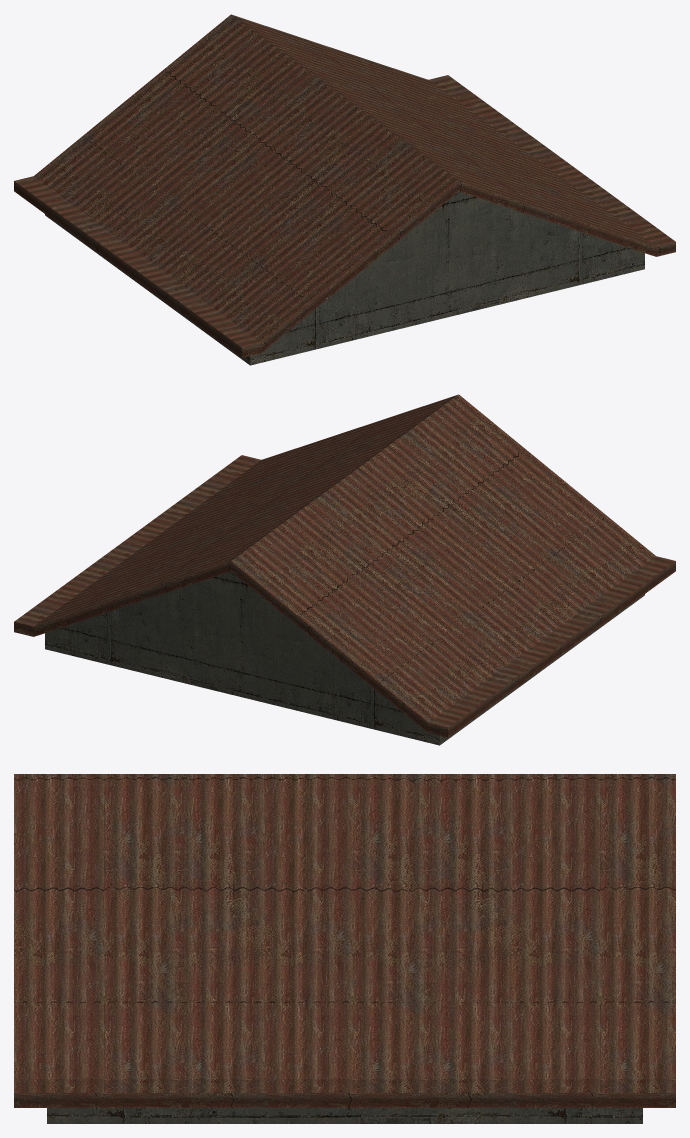
Rendered from roof_mx_1.glb.
The picture shows the model from 3 angles, top to bottom: view 1: azimuth 30°, elevation 25°; view 2: azimuth 150°, elevation 25°; view 3: azimuth 270°, elevation 25°; orthographic projection. The views are drawn at different scales.
Parts seen in each view (by area): view 1: roof_mx_1; view 2: roof_mx_1; view 3: roof_mx_1.
Part boxes in pixels (box(x1,y1,x2,y2)): roof_mx_1: box(14, 14, 675, 365); roof_mx_1: box(14, 394, 675, 745); roof_mx_1: box(14, 774, 675, 1123).
Bounding box in the file's own units: 4.4 × 1.4 × 4.
Materials: 3 (3 with a texture image).
